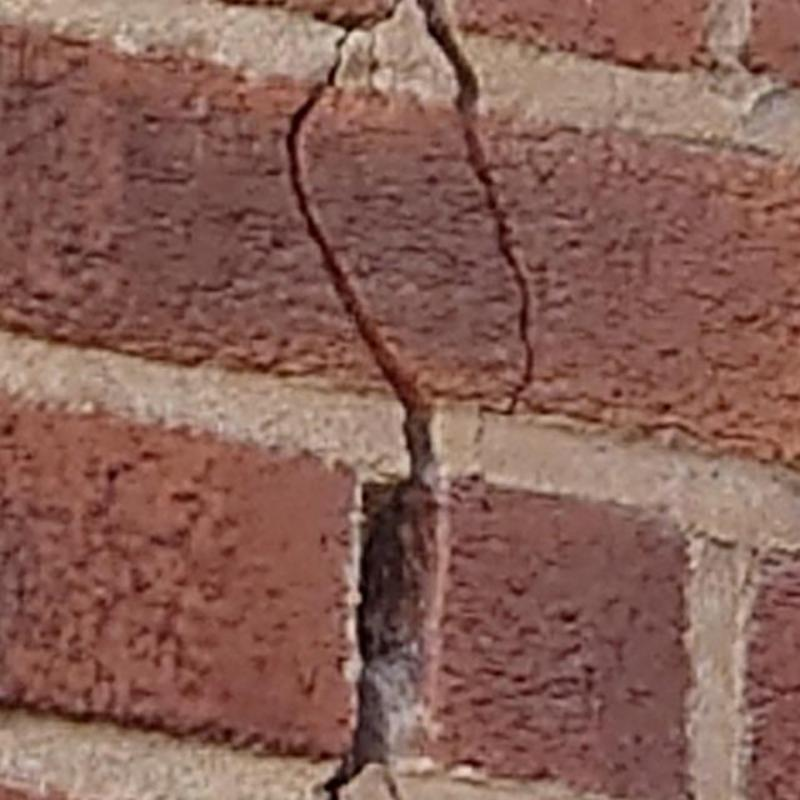pothole: (286, 29, 448, 799), (418, 0, 534, 418), (368, 30, 379, 92)
